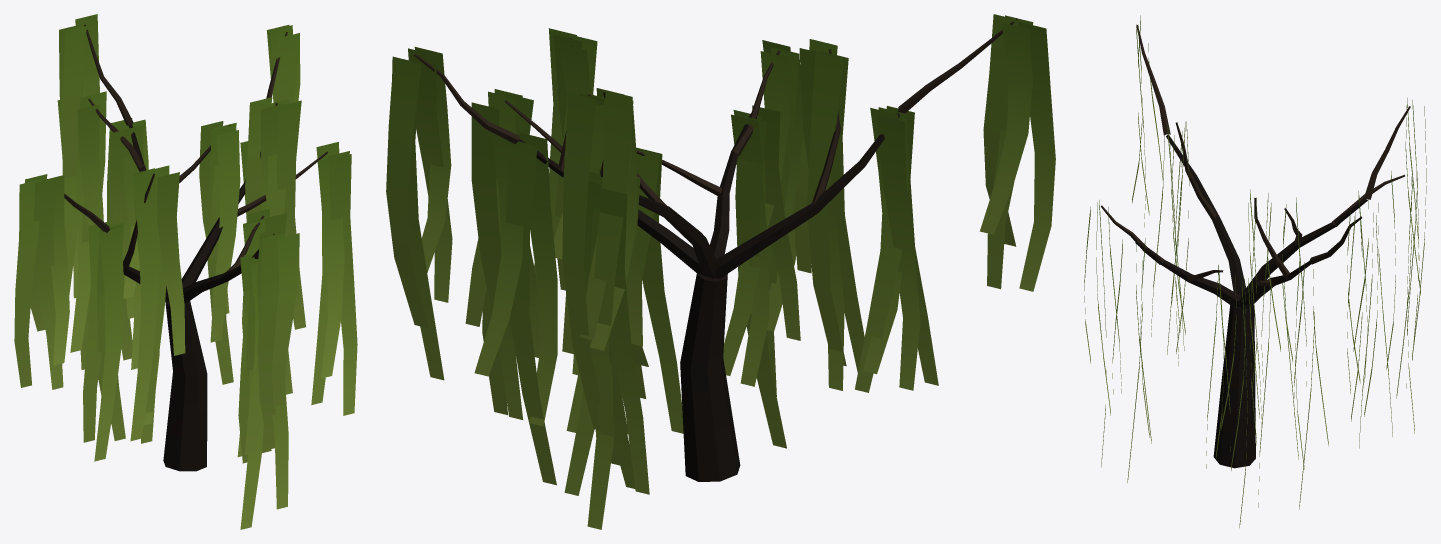
Rendered from hz-willow-lod.glb.
The picture shows the model from 3 angles, left to right: view 1: azimuth 30°, elevation 25°; view 2: azimuth 150°, elevation 25°; view 3: azimuth 270°, elevation 25°; orthographic projection. The views are drawn at different scales.
Parts seen in each view (by area): view 1: foliage__plant, trunk__wood; view 2: foliage__plant, trunk__wood; view 3: trunk__wood, foliage__plant.
Boxes of the visible parts, x1=… form: foliage__plant: x1=14, y1=14, x2=357, y2=529; trunk__wood: x1=47, y1=24, x2=327, y2=471; foliage__plant: x1=386, y1=14, x2=1055, y2=529; trunk__wood: x1=414, y1=18, x2=1017, y2=481; trunk__wood: x1=1101, y1=25, x2=1410, y2=468; foliage__plant: x1=1084, y1=15, x2=1426, y2=527.
Bounding box in the file's own units: 5.8 × 5.41 × 4.52.
